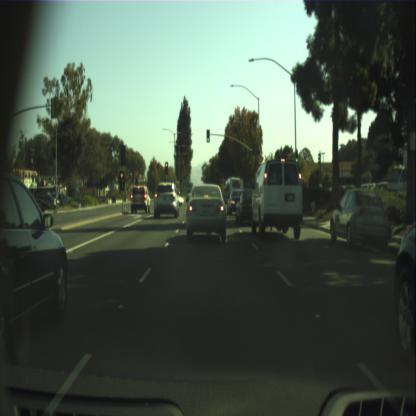Green: (296, 150, 298, 162), (207, 130, 209, 141)
Red: (165, 162, 167, 174)
RedLeft: (120, 171, 124, 190)
